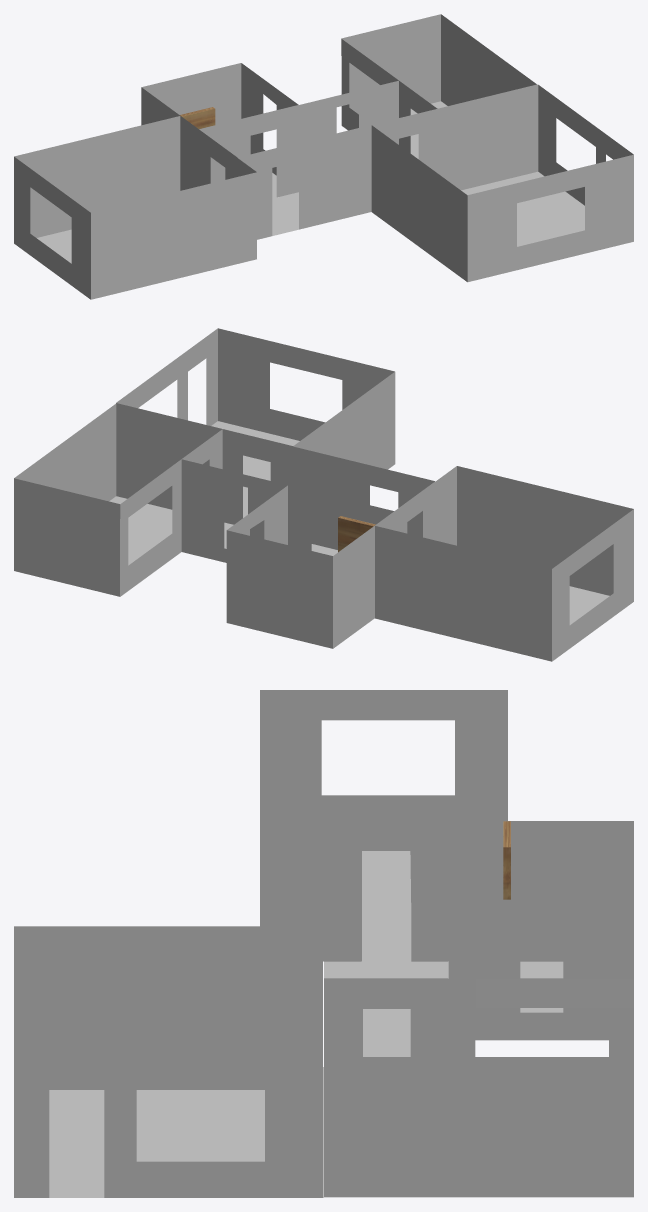
File: CASA_UNIDA.fbx
3 renders of one model, top to bottom at view 1: azimuth 30°, elevation 25°; view 2: azimuth 150°, elevation 25°; view 3: azimuth 270°, elevation 25°, orthographic. The views are drawn at different scales.
Parts seen in each view (by area): view 1: Paredes, Suelos, Cube; view 2: Paredes, Suelos, Cube; view 3: Paredes, Suelos.
Part boxes in pixels (x1,y1,x2,y2): Paredes: (14, 14, 633, 299); Suelos: (37, 101, 584, 263); Cube: (180, 107, 215, 128); Paredes: (14, 328, 633, 661); Suelos: (109, 421, 609, 624); Cube: (338, 516, 375, 552); Paredes: (14, 690, 633, 1197); Suelos: (49, 851, 563, 1197).
Bounding box in the file's own units: 2805 × 500 × 2000.
